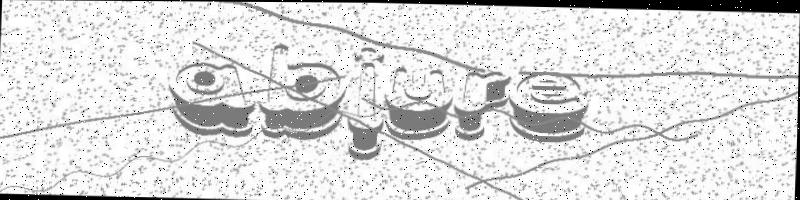a: (168, 61, 256, 136)
b: (259, 44, 348, 141)
e: (509, 72, 590, 141)
i: (348, 47, 386, 159)
r: (454, 69, 512, 141)
u: (385, 66, 453, 140)
